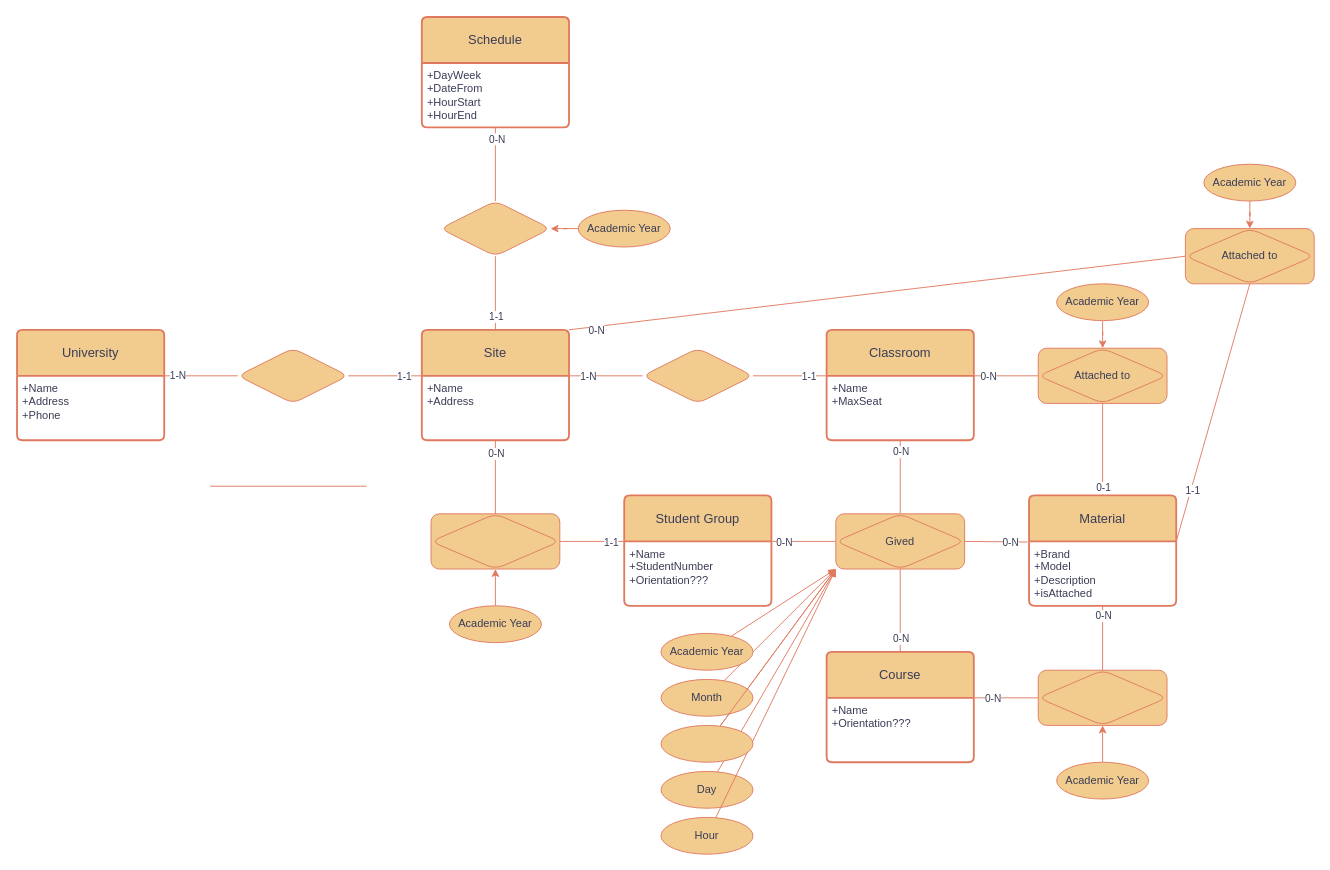
This 1330x870 diagram has some shape labels left out. Each missing label, with the centre of its shape:
Depend: pixel 495 228
Located on: pixel 697 375
Own: pixel 292 375
Prefered: pixel 495 541
Require: pixel 1102 697
Week: pixel 706 743
